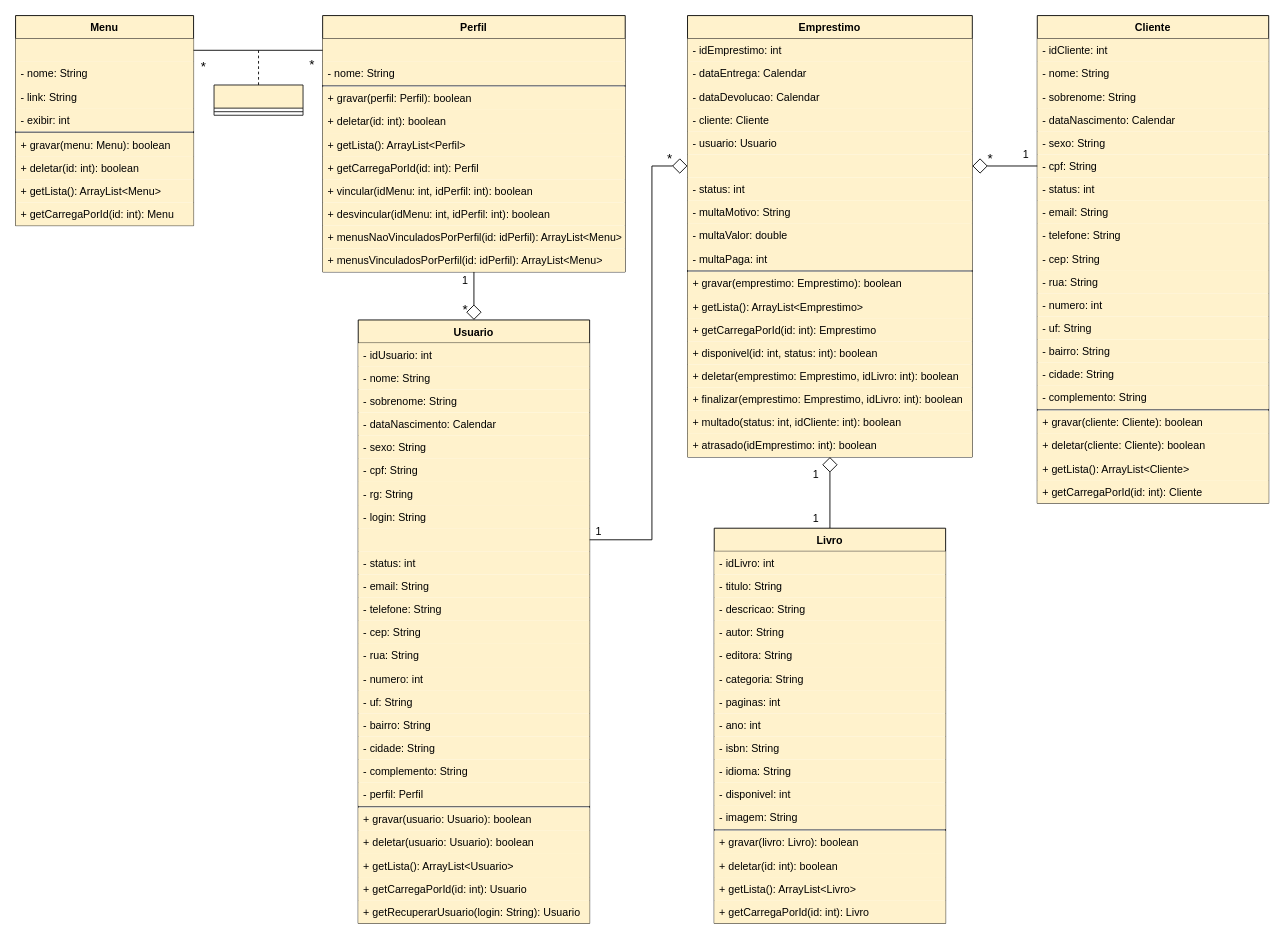
Image size: 1284x942. Some labels were removed from this diagram. The centre of each missing label's shape, as x and y in pixels:
- idMenu: int: (104,49)
- idPerfil: int: (473,49)
- livro: Livro: (829,165)
- senha: String: (473,539)
MenuPerfil: (258,99)
